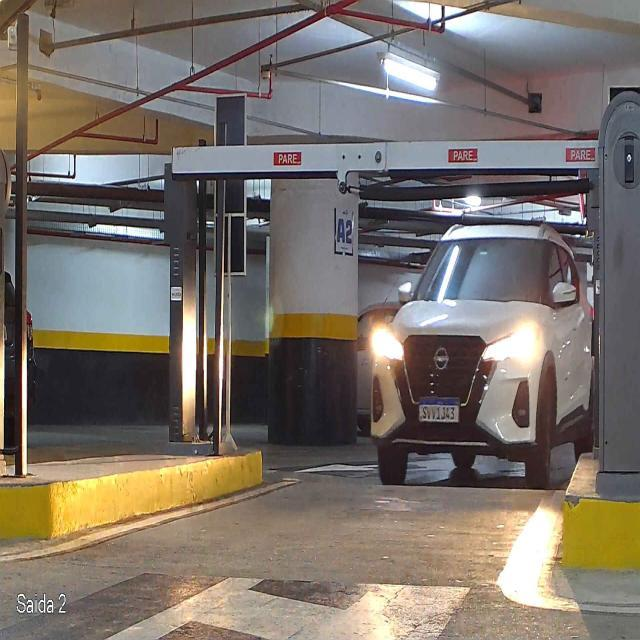mercosul_plate: (416, 396, 462, 424)
